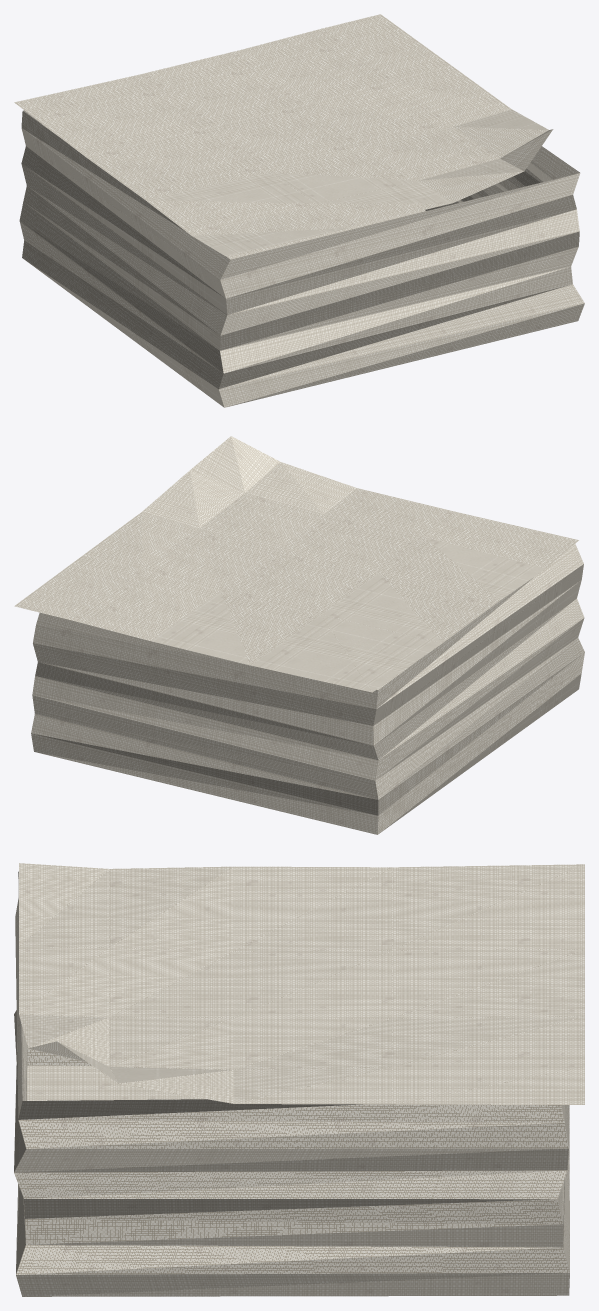
Rendered from SM_MourningCloth_Stack_Cao.glb.
3 views of the same model, one above another, from view 1: azimuth 30°, elevation 25°; view 2: azimuth 150°, elevation 25°; view 3: azimuth 270°, elevation 25° (orthographic). The views are drawn at different scales.
Visible parts, largest first — view 1: SM_MourningCloth_Stack_Cao; view 2: SM_MourningCloth_Stack_Cao; view 3: SM_MourningCloth_Stack_Cao.
Part boxes in pixels (x1,y1,x2,y2): SM_MourningCloth_Stack_Cao: (14, 14, 584, 407); SM_MourningCloth_Stack_Cao: (14, 436, 584, 834); SM_MourningCloth_Stack_Cao: (14, 863, 584, 1296).
Bounding box in the file's own units: 0.3165 × 0.1507 × 0.3147.
Materials: 1 (1 with a texture image).
